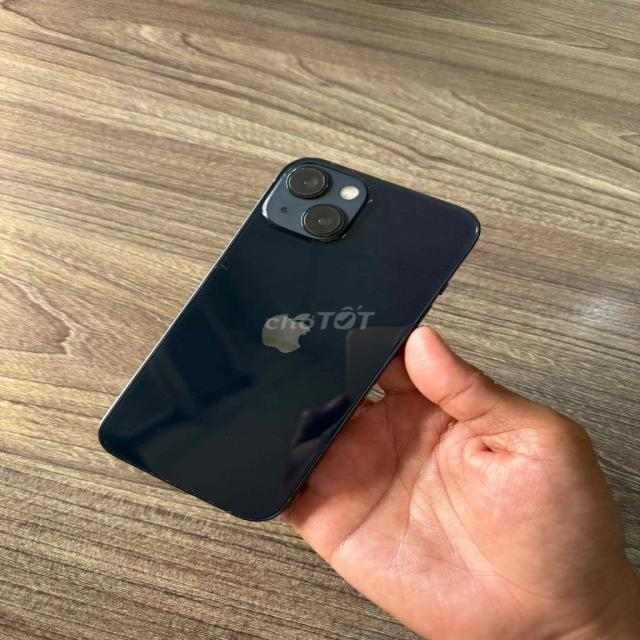gen_12_13: (97, 158, 484, 529)
